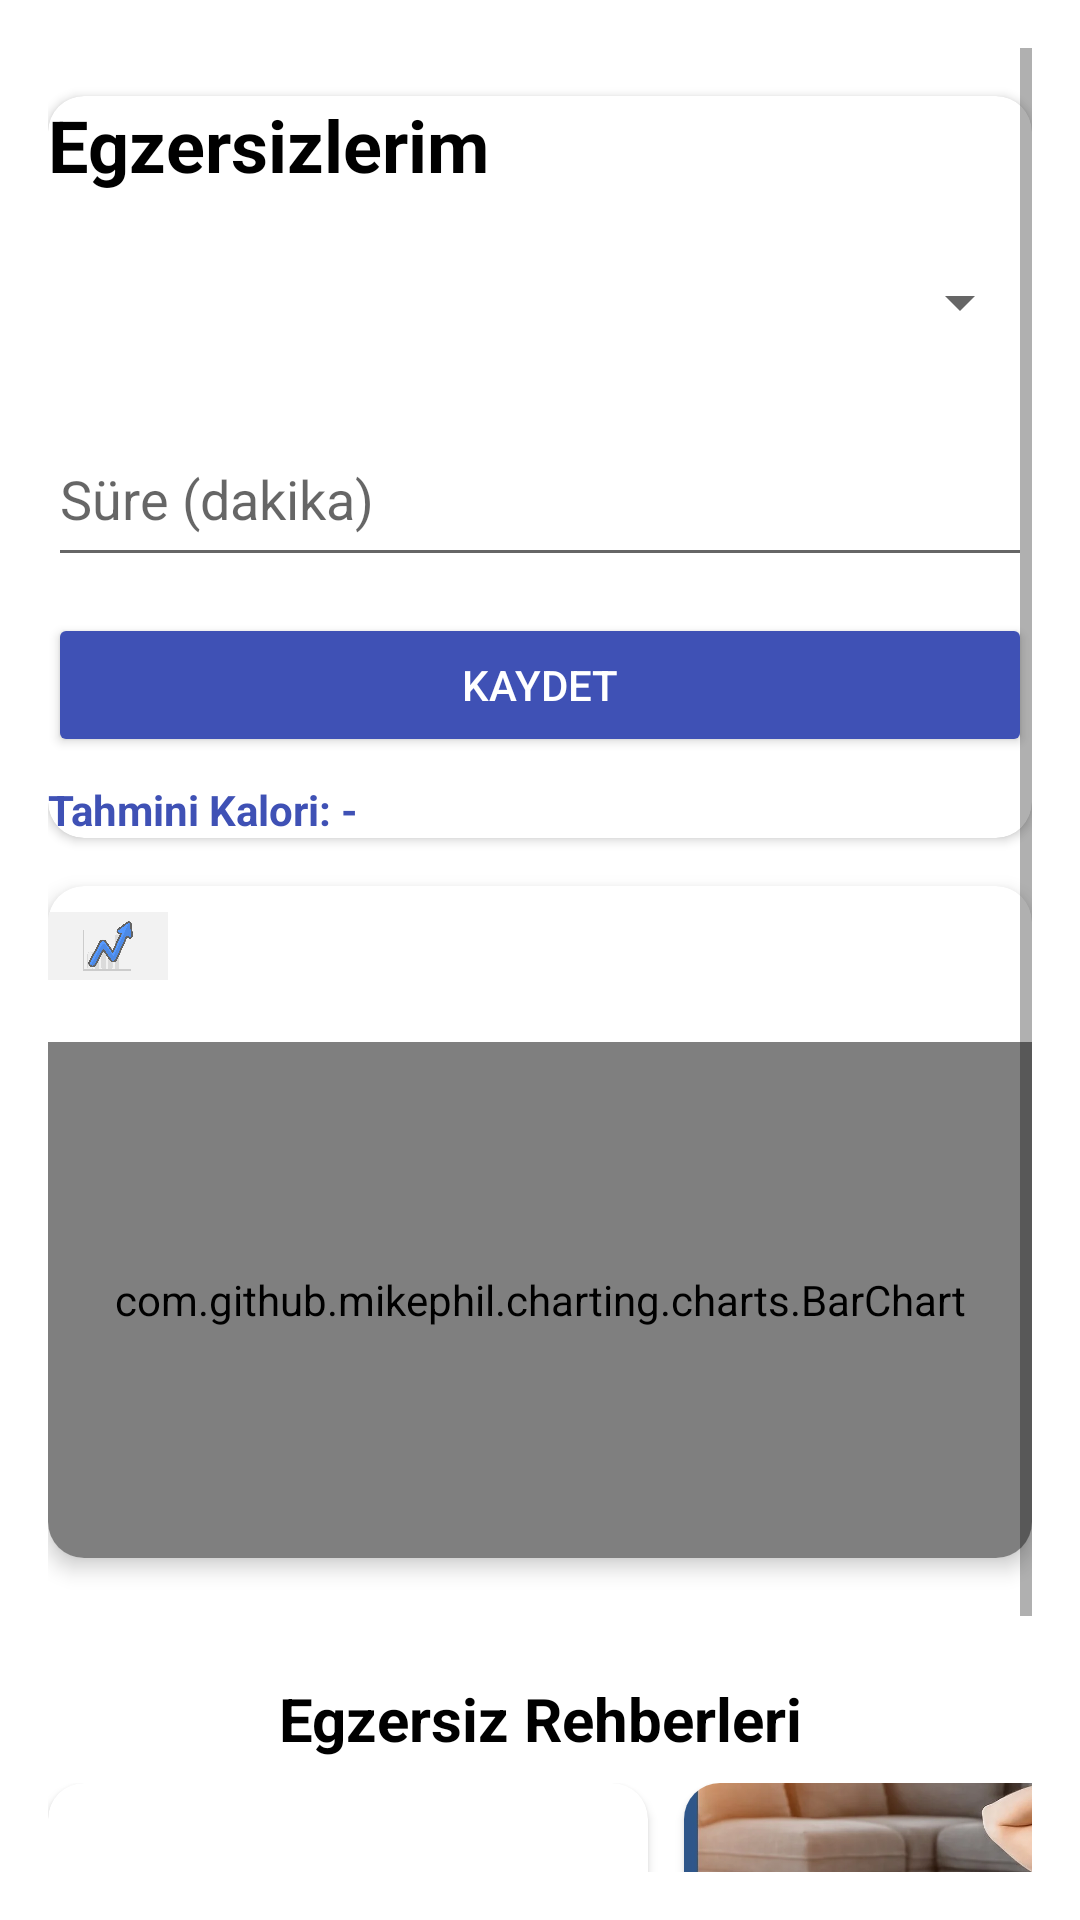

Named icons in this screenshot (1080 x 1920) and their bounding boxes, (x1, y1, x2, y2):
Spor Takibi: (48, 886, 168, 980)
